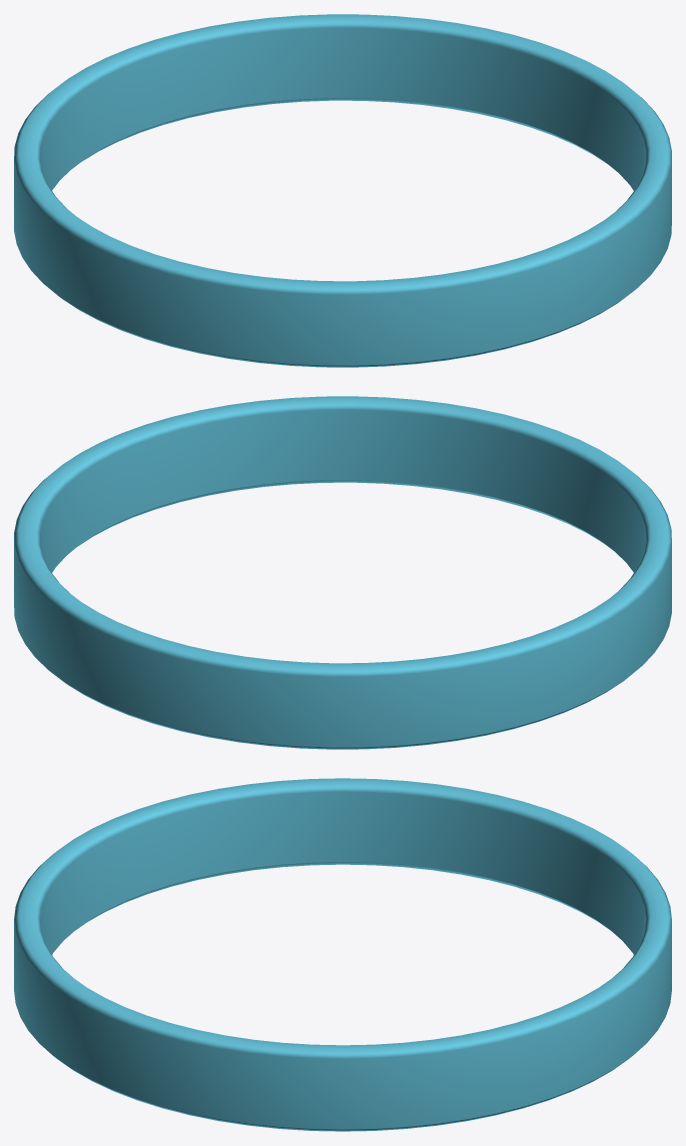
3 renders of one model, top to bottom at view 1: azimuth 30°, elevation 25°; view 2: azimuth 150°, elevation 25°; view 3: azimuth 270°, elevation 25°, orthographic.
Visible parts, largest first — view 1: seal_body; view 2: seal_body; view 3: seal_body.
Part boxes in pixels (box(x1,y1,x2,y2)): seal_body: box(14, 14, 671, 367); seal_body: box(14, 396, 671, 749); seal_body: box(14, 778, 671, 1131).
Size of the model in its own units: 0.119 by 0.0159 by 0.119.
